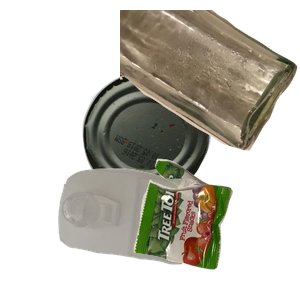glass: (120, 10, 300, 153)
metal: (80, 68, 284, 248)
plastic: (56, 166, 241, 300)
trash: (131, 156, 300, 300)
